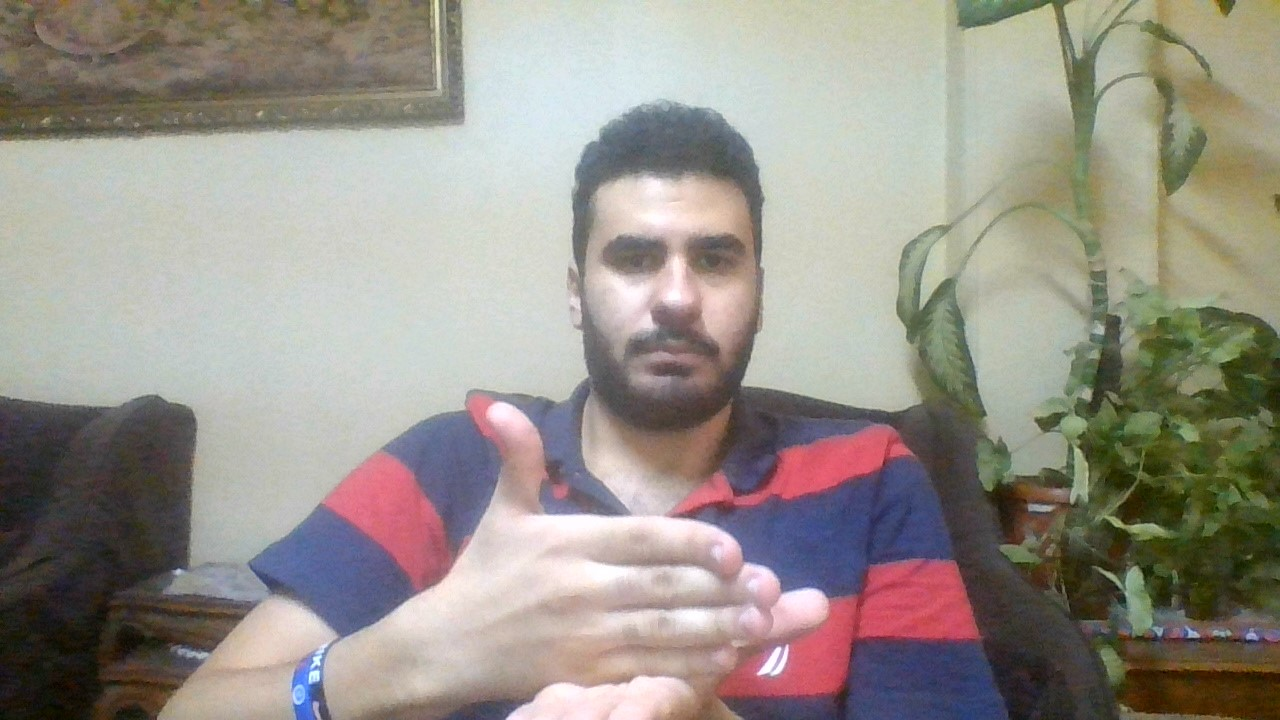stop: (433, 390, 835, 720)
